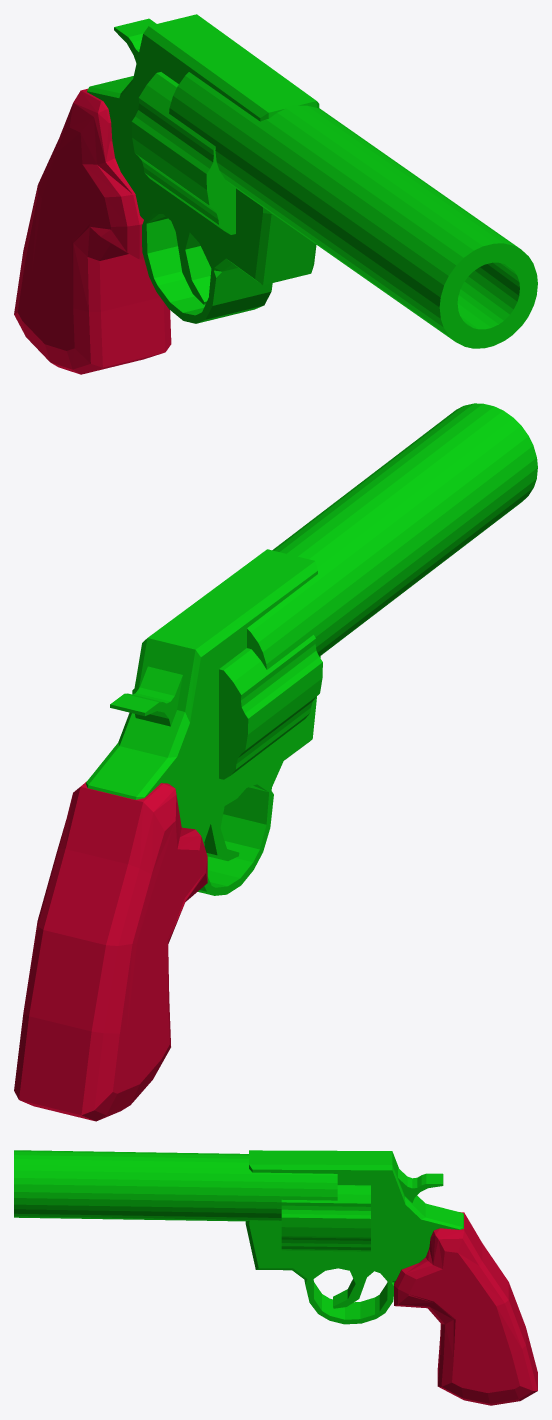
File: pistola.obj
The picture shows the model from 3 angles, top to bottom: view 1: azimuth 30°, elevation 25°; view 2: azimuth 150°, elevation 25°; view 3: azimuth 270°, elevation 25°; orthographic projection. The views are drawn at different scales.
Parts seen in each view (by area): view 1: Cylinder, Plane.001, Plane, Cylinder.001, Plane.002, Plane.003; view 2: Plane.001, Cylinder, Plane, Cylinder.001, Plane.003, Plane.002; view 3: Cylinder, Plane.001, Plane, Cylinder.001, Plane.003, Plane.002.
Part boxes in pixels (x1,y1,x2,y2): Cylinder: (169, 72, 537, 348); Plane.001: (14, 88, 171, 374); Plane: (87, 14, 319, 323); Cylinder.001: (131, 72, 235, 234); Plane.002: (171, 221, 211, 304); Plane.003: (114, 18, 156, 63); Plane.001: (14, 781, 207, 1121); Cylinder: (247, 403, 537, 669); Plane: (86, 549, 320, 895); Cylinder.001: (132, 635, 322, 779); Plane.003: (110, 666, 182, 726); Plane.002: (204, 806, 239, 860); Cylinder: (14, 1150, 337, 1221); Plane.001: (394, 1212, 537, 1405); Plane: (245, 1150, 463, 1324); Cylinder.001: (281, 1185, 370, 1251); Plane.003: (398, 1168, 443, 1202); Plane.002: (333, 1269, 373, 1308).
Bounding box in the file's own units: 0.2208 × 0.7397 × 1.45.
